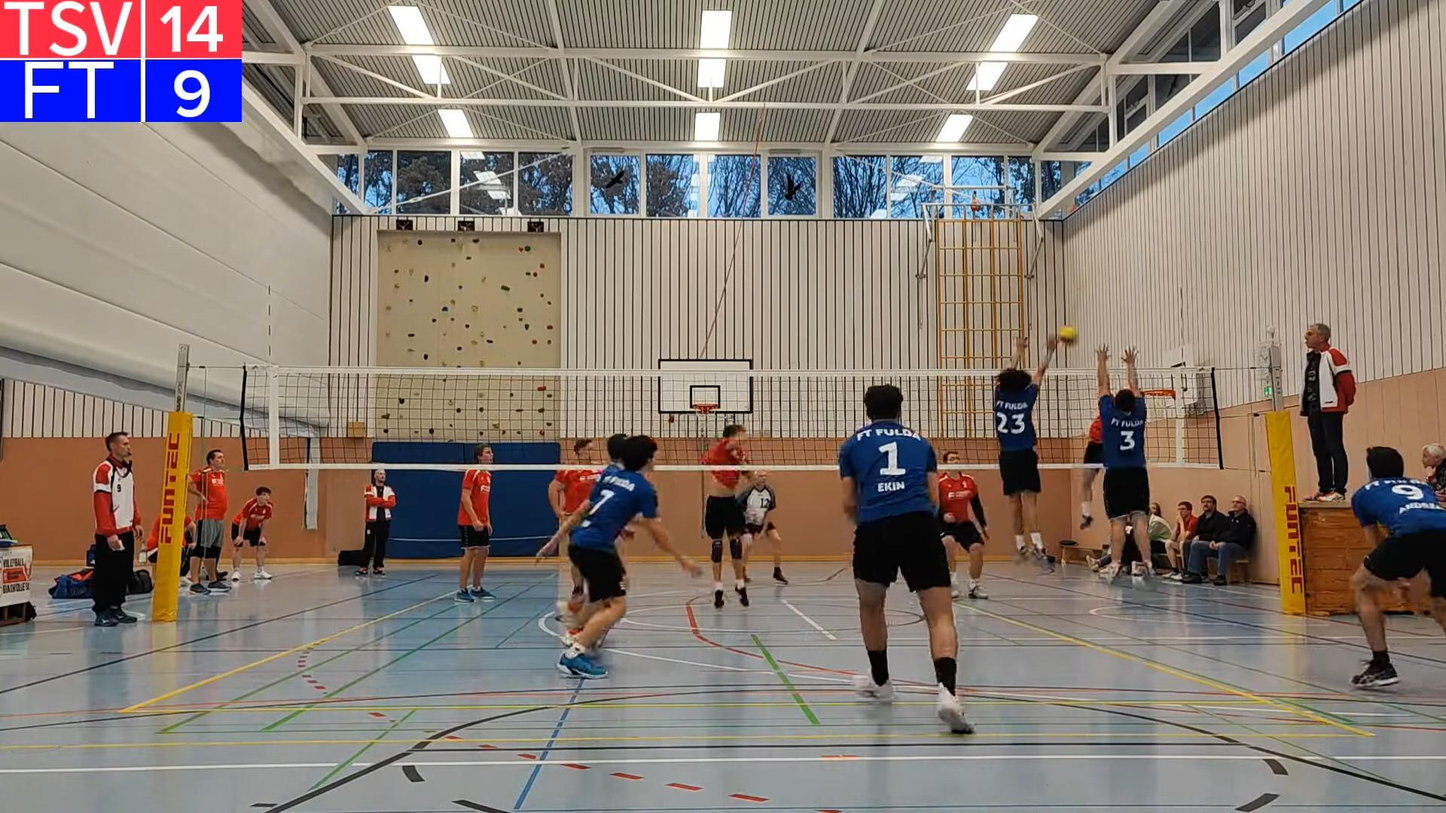Attack: (1074, 394, 1106, 536)
Block: (1092, 338, 1161, 584), (990, 327, 1057, 565)
Player: (838, 385, 972, 732), (538, 436, 700, 678), (1351, 446, 1445, 687), (938, 471, 988, 598), (703, 469, 749, 607), (738, 472, 788, 584), (455, 467, 494, 601), (548, 469, 601, 525)
ball: (1059, 322, 1078, 347)
